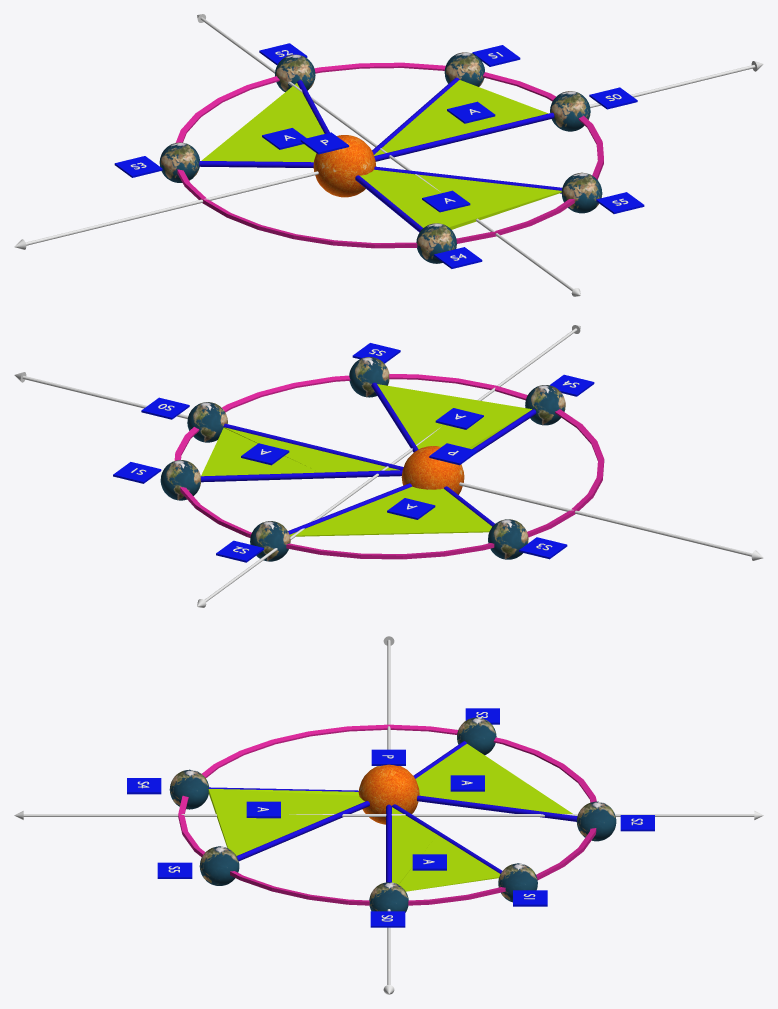
File: 3. Hukum kepler kedua.fbx
The picture shows the model from 3 angles, top to bottom: view 1: azimuth 30°, elevation 25°; view 2: azimuth 150°, elevation 25°; view 3: azimuth 270°, elevation 25°; orthographic projection. The views are drawn at different scales.
Visible parts, largest first — view 1: Cylinder.002, Cylinder.001, Cylinder, Matahari.001, Bumi.006, Bumi.001, Bumi.004, Bumi.005, Bumi.003, Bumi.002, Cylinder.003, Cube.008 (+9 smaller); view 2: Cylinder.002, Cylinder.001, Cylinder, Matahari.001, Cylinder.003, Bumi.004, Bumi.002, Bumi.001, Bumi.005, Bumi.006, Bumi.003, Cube.008 (+9 smaller); view 3: Cylinder.002, Cylinder.001, Cylinder, Matahari.001, Bumi.006, Bumi.003, Bumi.005, Bumi.004, Bumi.002, Bumi.001, Cube.007.
Part boxes in pixels (<box>): Cylinder.002: <box>199,78,562,232</box>; Cylinder.001: <box>175,62,603,248</box>; Cylinder: <box>14,14,763,296</box>; Matahari.001: <box>313,135,375,197</box>; Bumi.006: <box>561,172,602,213</box>; Bumi.001: <box>550,91,590,131</box>; Bumi.004: <box>159,142,199,182</box>; Bumi.005: <box>416,223,456,263</box>; Bumi.003: <box>275,54,315,91</box>; Bumi.002: <box>444,52,484,86</box>; Cylinder.003: <box>372,77,533,161</box>; Cube.008: <box>447,101,495,123</box>; Cylinder.002: <box>201,382,536,536</box>; Cylinder.001: <box>174,374,604,559</box>; Cylinder: <box>14,325,763,607</box>; Matahari.001: <box>401,446,464,494</box>; Cylinder.003: <box>201,424,403,482</box>; Bumi.004: <box>488,519,528,559</box>; Bumi.002: <box>160,460,200,500</box>; Bumi.001: <box>187,402,227,442</box>; Bumi.005: <box>525,385,565,425</box>; Bumi.006: <box>349,357,389,397</box>; Bumi.003: <box>250,521,290,561</box>; Cube.008: <box>241,443,289,465</box>; Cylinder.002: <box>208,741,577,891</box>; Cylinder.001: <box>178,724,596,905</box>; Cylinder: <box>14,636,763,994</box>; Matahari.001: <box>358,764,419,824</box>; Bumi.006: <box>199,846,239,885</box>; Bumi.003: <box>576,801,616,841</box>; Bumi.005: <box>169,769,208,809</box>; Bumi.004: <box>457,717,496,754</box>; Bumi.002: <box>498,863,537,902</box>; Bumi.001: <box>369,882,408,912</box>; Cube.007: <box>246,801,280,818</box>.
Bounding box in the file's own units: 53476 × 3920 × 47395.
